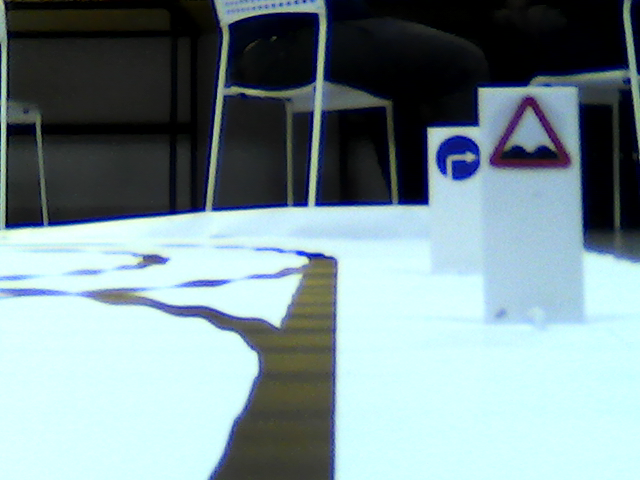Nerov: (487, 93, 581, 178)
Right: (435, 136, 481, 182)
